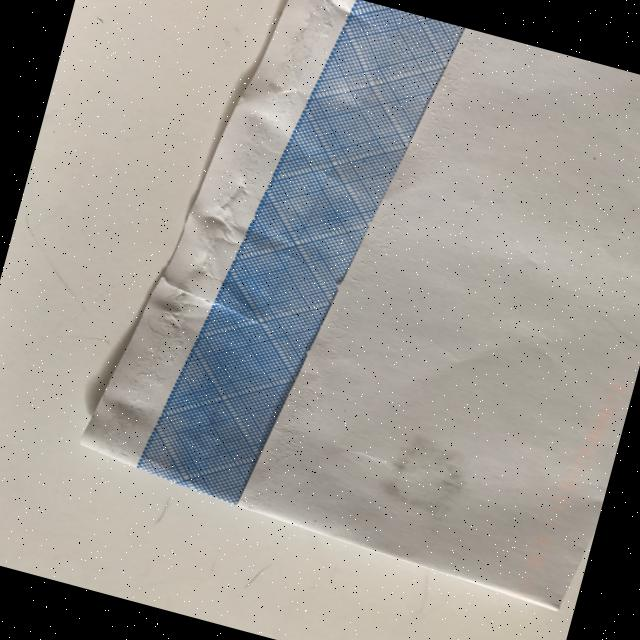paper: (67, 0, 640, 614)
